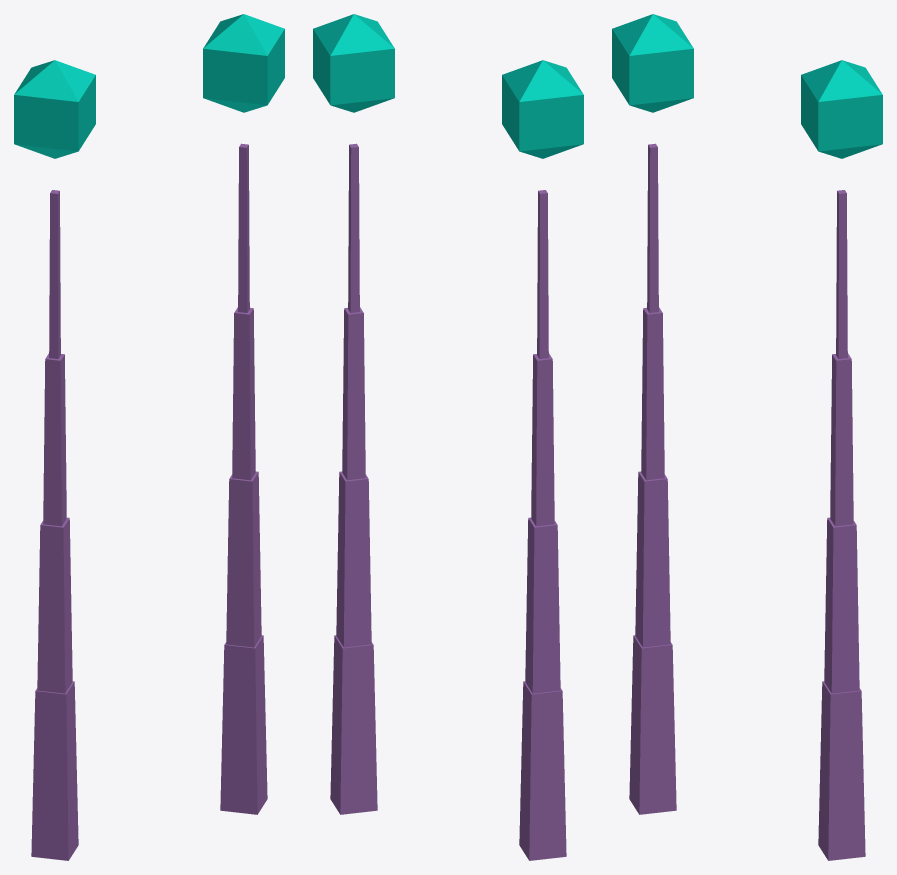
Rendered from acc_antenna.glb.
The picture shows the model from 3 angles, left to right: view 1: azimuth 30°, elevation 25°; view 2: azimuth 150°, elevation 25°; view 3: azimuth 330°, elevation 25°; orthographic projection.
Size of the model in its own units: 0.3583 by 1 by 0.1083.
